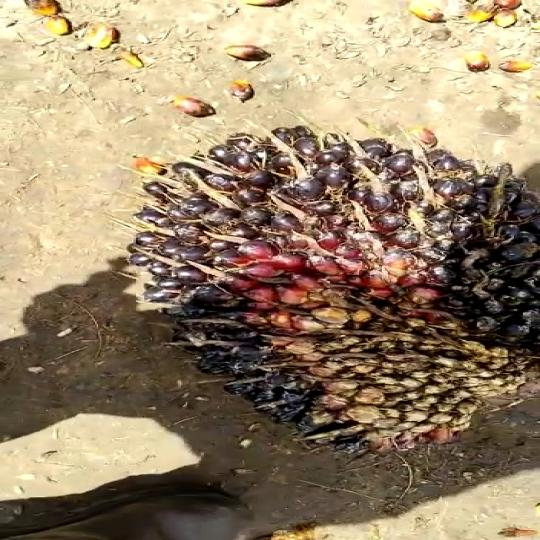mentah: (122, 122, 540, 456)
